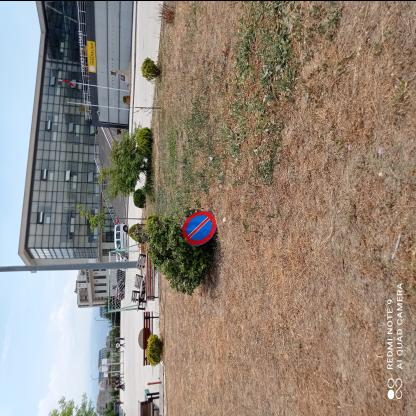No Waiting: (184, 211, 218, 245)
